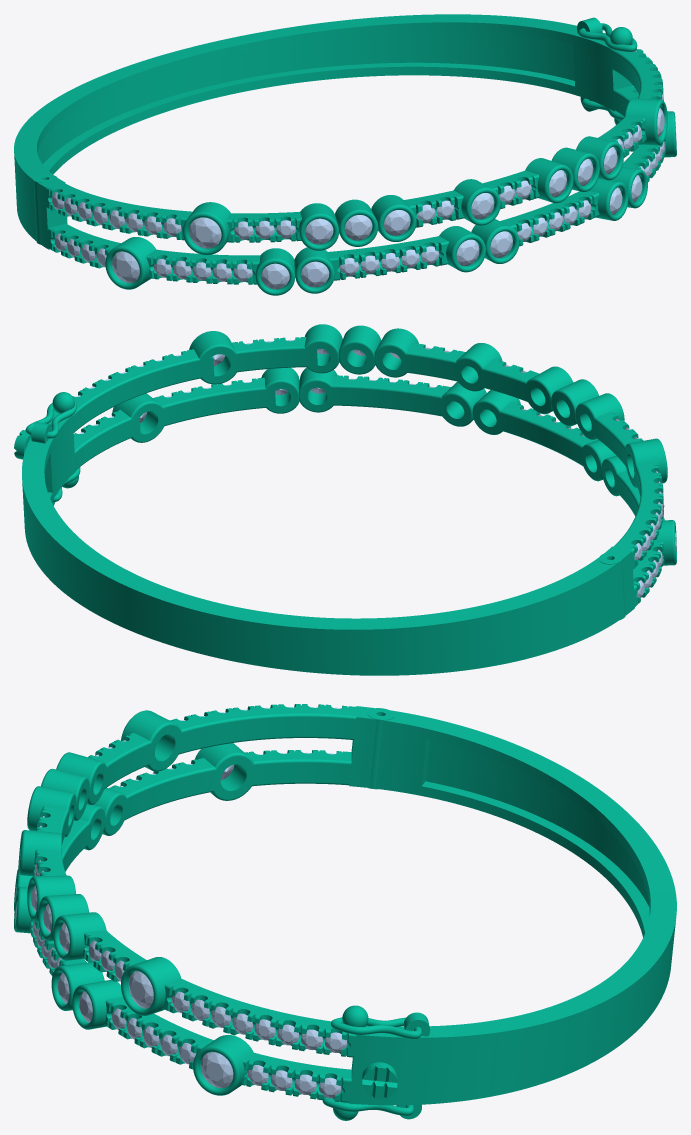
The picture shows the model from 3 angles, top to bottom: view 1: azimuth 30°, elevation 25°; view 2: azimuth 150°, elevation 25°; view 3: azimuth 270°, elevation 25°; orthographic projection. The views are drawn at different scales.
Parts seen in each view (by area): view 1: Bangle04(base).3dm, Bezel (×17), Diamond_Round (×10); view 2: Bangle04(base).3dm, Bezel (×17); view 3: Bangle04(base).3dm, Bezel (×16), Diamond_Round (×2).
Boxes of the visible parts, x1=… form: Bangle04(base).3dm: x1=14, y1=14, x2=665, y2=284; Bezel (×17): x1=105, y1=98, x2=676, y2=295; Diamond_Round (×10): x1=112, y1=193, x2=512, y2=289; Bangle04(base).3dm: x1=14, y1=337, x2=664, y2=675; Bezel (×17): x1=112, y1=324, x2=676, y2=565; Bangle04(base).3dm: x1=29, y1=704, x2=676, y2=1120; Bezel (×16): x1=14, y1=710, x2=253, y2=1095; Diamond_Round (×2): x1=128, y1=971, x2=233, y2=1088.
Size of the model in its own units: 3.06 by 0.5406 by 2.52.
